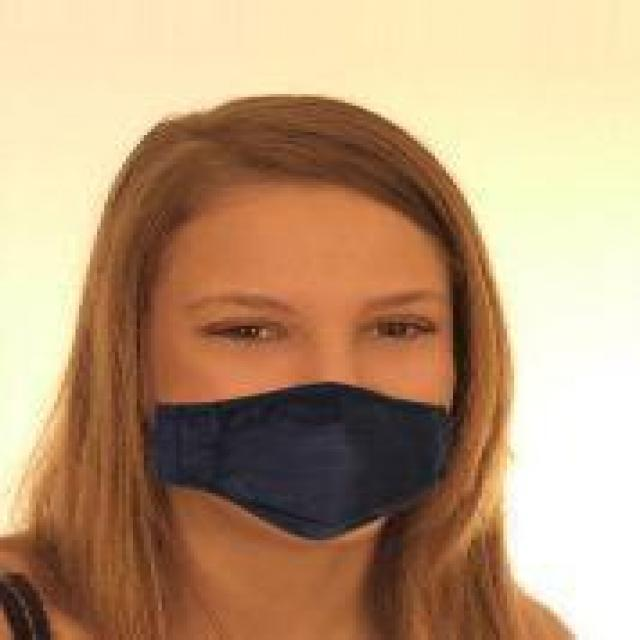mask: (111, 68, 554, 582)
